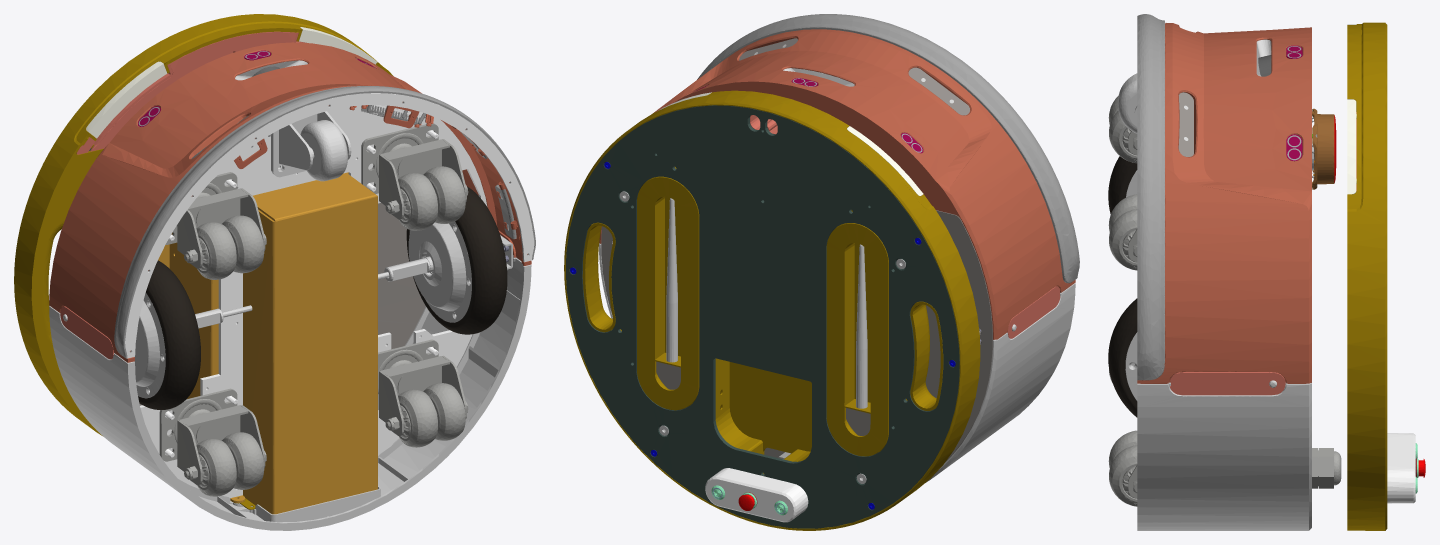
The model's file is apollo20.obj.
3 views of the same model, side by side, from view 1: azimuth 30°, elevation 25°; view 2: azimuth 150°, elevation 25°; view 3: azimuth 270°, elevation 25° (orthographic). The views are drawn at different scales.
Parts seen in each view (by area): view 1: obj9; view 2: obj9; view 3: obj9.
Boxes of the visible parts, x1,y1,x2,y2 form: obj9: [14, 14, 535, 530]; obj9: [564, 14, 1079, 530]; obj9: [1108, 14, 1425, 530].
Size of the model in its own units: 90.46 by 90.66 by 55.06.
